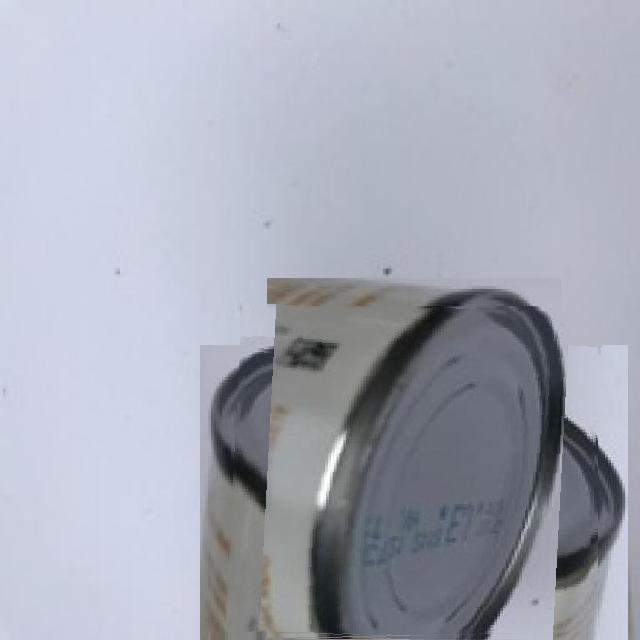recyclable: (229, 306, 598, 640)
